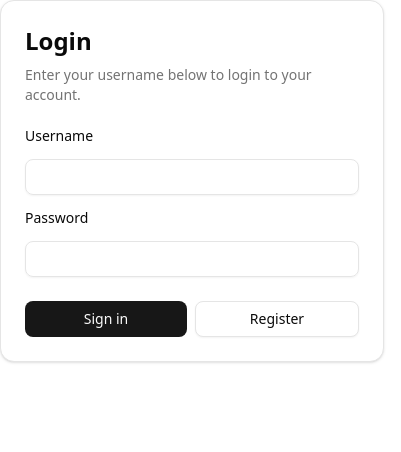
Test case: LoginForm Component › shows validation error for short username
Type "ab" into the field labelled "Username" at (192, 177), box [25,159,359,195]
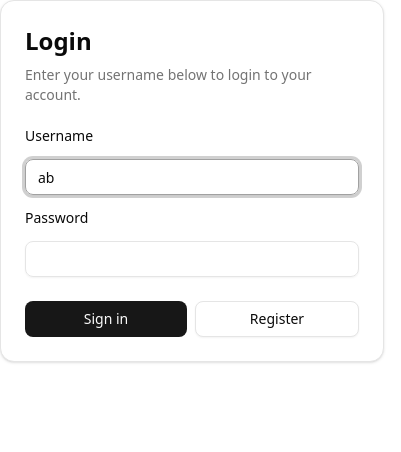
Click the button "Sign in" at (106, 319), box [25,301,187,337]
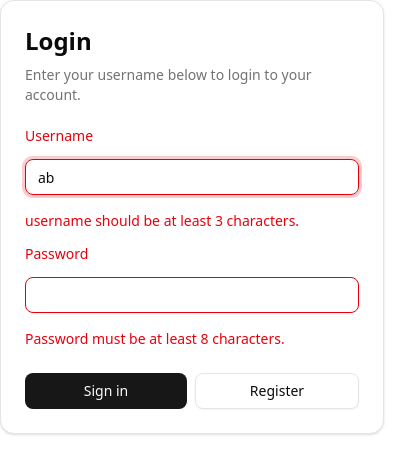
Now the text "username should be at least 3 characters." is shown, box [25,211,299,230]
